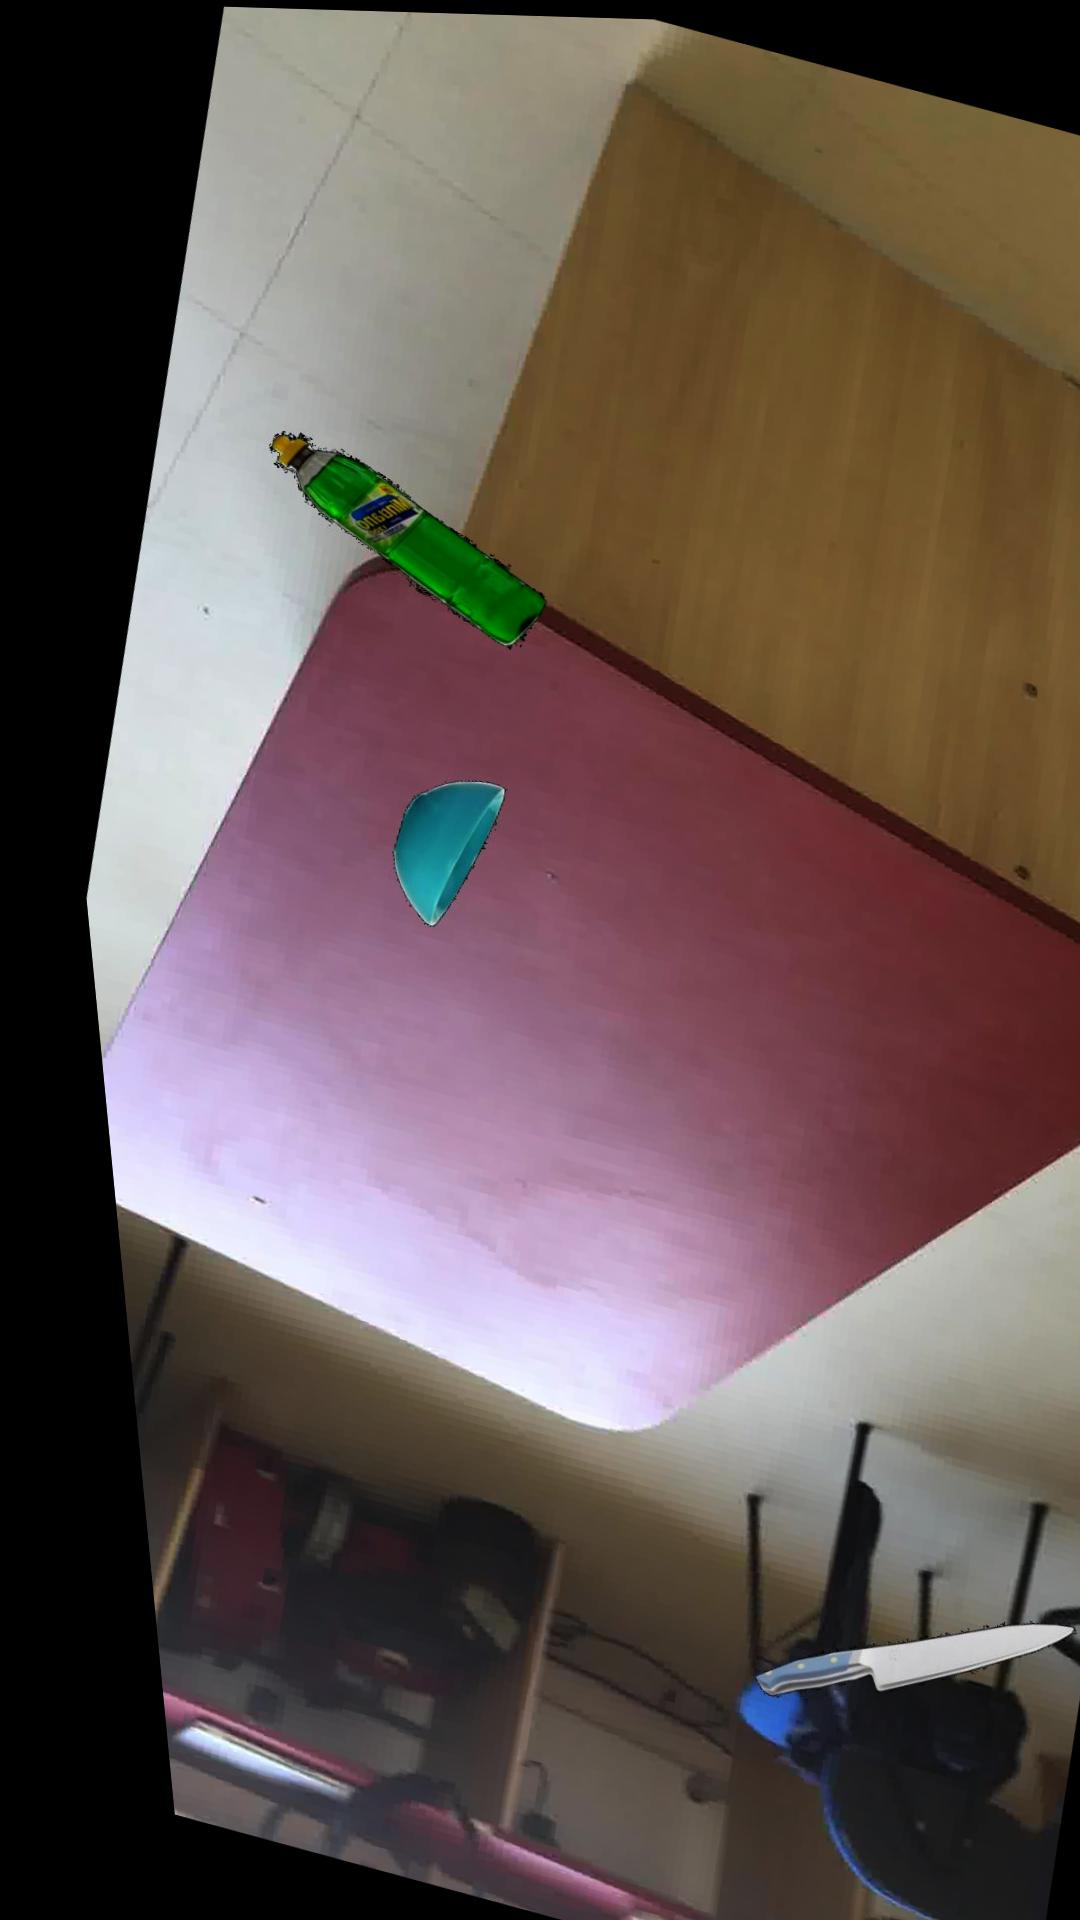bowl: (376, 779, 491, 926)
cleaner: (261, 430, 535, 647)
knife: (721, 1618, 1043, 1693)
